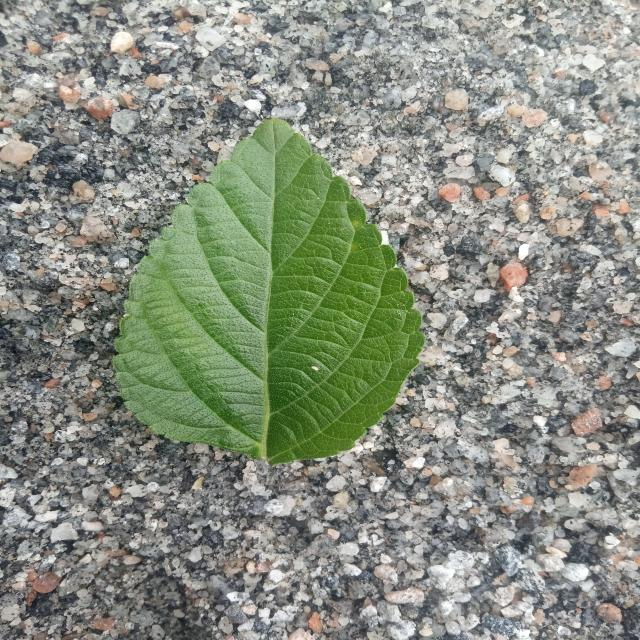Lantana: (113, 119, 425, 464)
neem: (0, 0, 640, 640)
